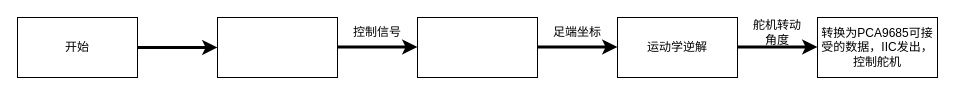
This 955x95 diagram has some shape labels left out. Each missing label, with the box of its shape:
Trot步态函数: (416, 16, 538, 78)
客户端: (216, 16, 338, 78)
